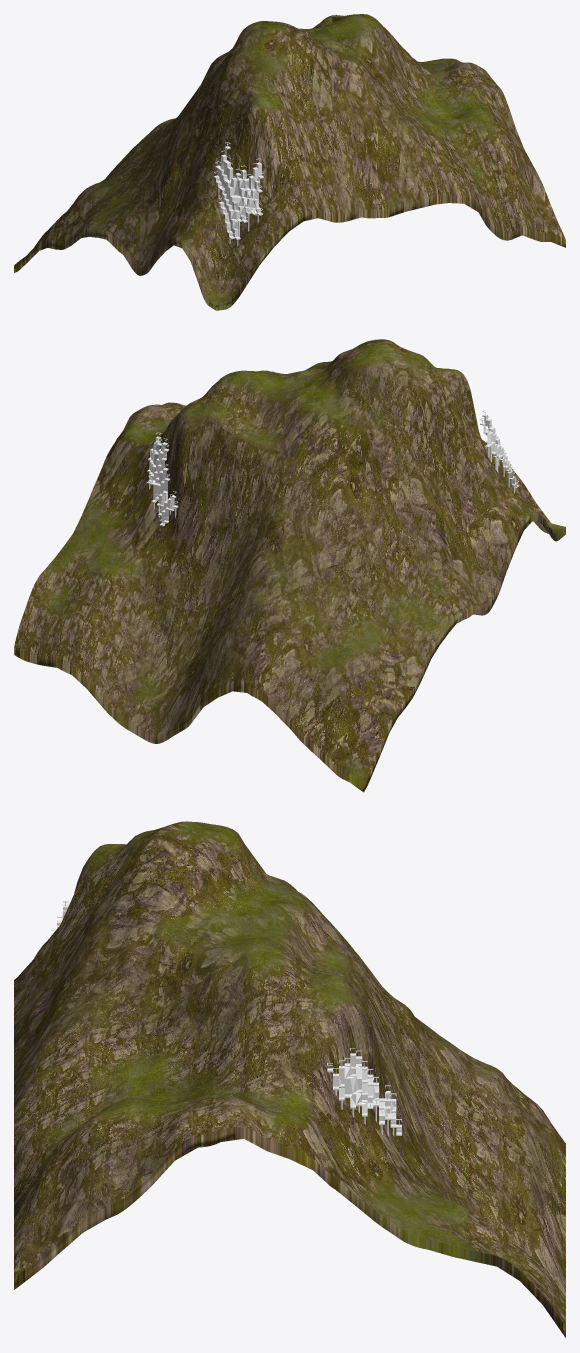
File: chunk_2_3.glb
3 views of the same model, one above another, from view 1: azimuth 30°, elevation 25°; view 2: azimuth 150°, elevation 25°; view 3: azimuth 270°, elevation 25° (orthographic). The views are drawn at different scales.
Visible parts, largest first — view 1: Terrain_L0, Terrain_L2, Terrain_L1, Buildings_L0, Buildings_L1; view 2: Terrain_L0, Terrain_L2, Terrain_L1, Buildings_L0, Buildings_L1; view 3: Terrain_L0, Terrain_L2, Terrain_L1, Buildings_L0, Buildings_L1.
Boxes of the visible parts, x1,y1,x2,y2 form: Terrain_L0: (14, 14, 565, 310); Terrain_L2: (14, 17, 564, 310); Terrain_L1: (14, 15, 565, 309); Buildings_L0: (214, 142, 263, 246); Buildings_L1: (216, 148, 261, 236); Terrain_L0: (14, 339, 565, 792); Terrain_L2: (15, 345, 565, 791); Terrain_L1: (17, 340, 565, 790); Buildings_L0: (146, 410, 519, 526); Buildings_L1: (149, 415, 516, 524); Terrain_L0: (14, 821, 565, 1337); Terrain_L2: (14, 825, 565, 1336); Terrain_L1: (14, 823, 565, 1337); Buildings_L0: (51, 899, 401, 1136); Buildings_L1: (57, 910, 401, 1132).
Size of the model in its own units: 96 by 83.38 by 96.
2 materials, 1 textured.
